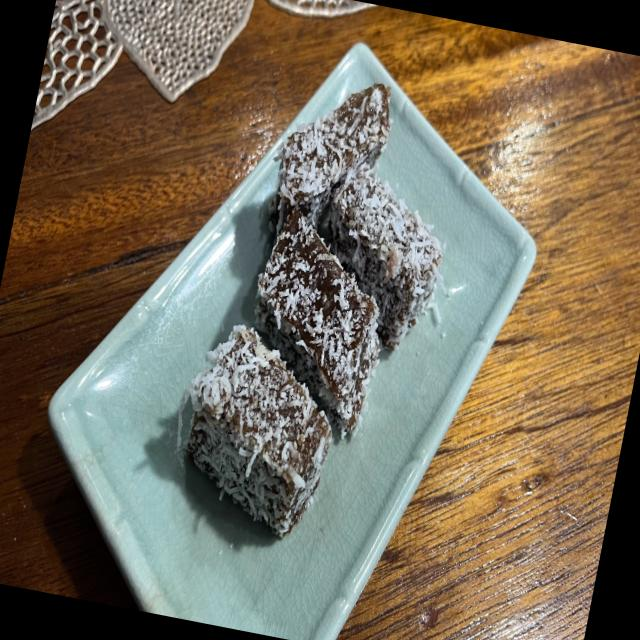kaswi: (177, 325, 332, 537), (256, 211, 379, 435), (328, 163, 445, 350), (275, 84, 391, 237)
